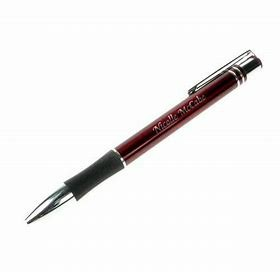pen: (24, 50, 262, 224)
